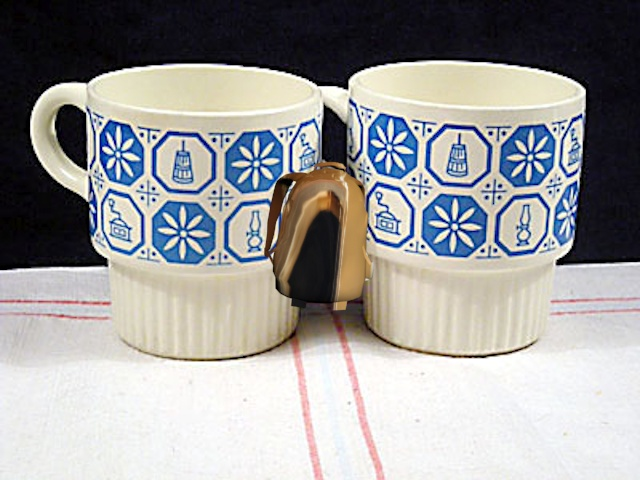back_pack: (256, 160, 384, 321)
